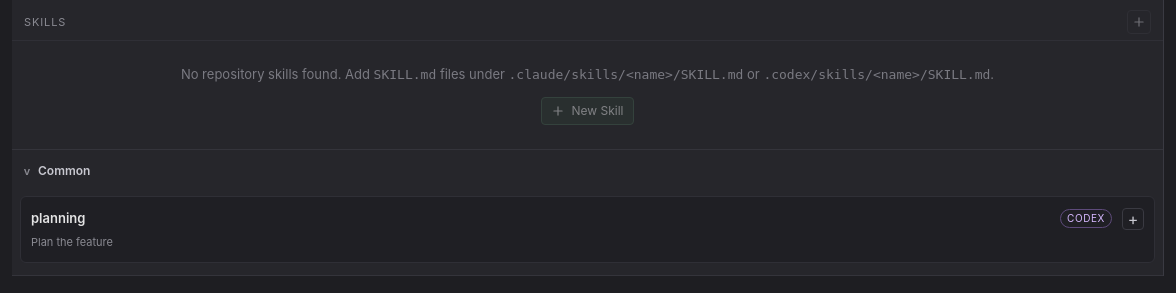
Test case: Sidebar › SB10: shows enabled file actions for default skills
Right-click the list item with test id "default-skill-list__item" at (588, 229), box [20,196,1155,263]
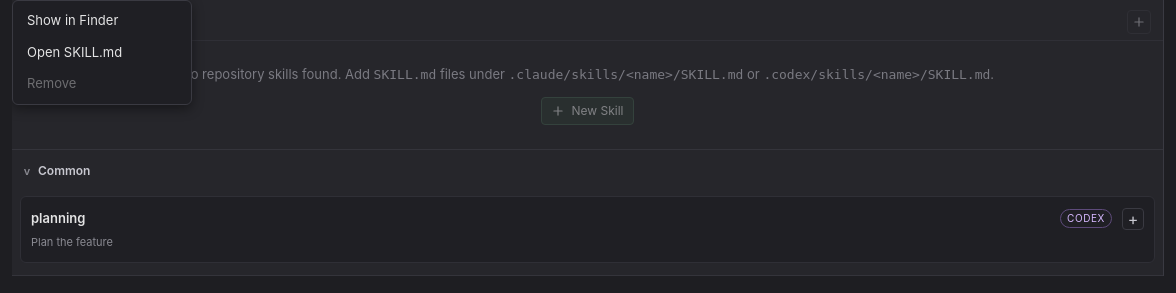
Expected: the element with test id "skill-node-menu" is shown, [12,0,192,104]
Expected: the button "Show in Finder" is enabled, [17,5,187,36]
Expected: the button "Open SKILL.md" is enabled, [17,36,187,68]
